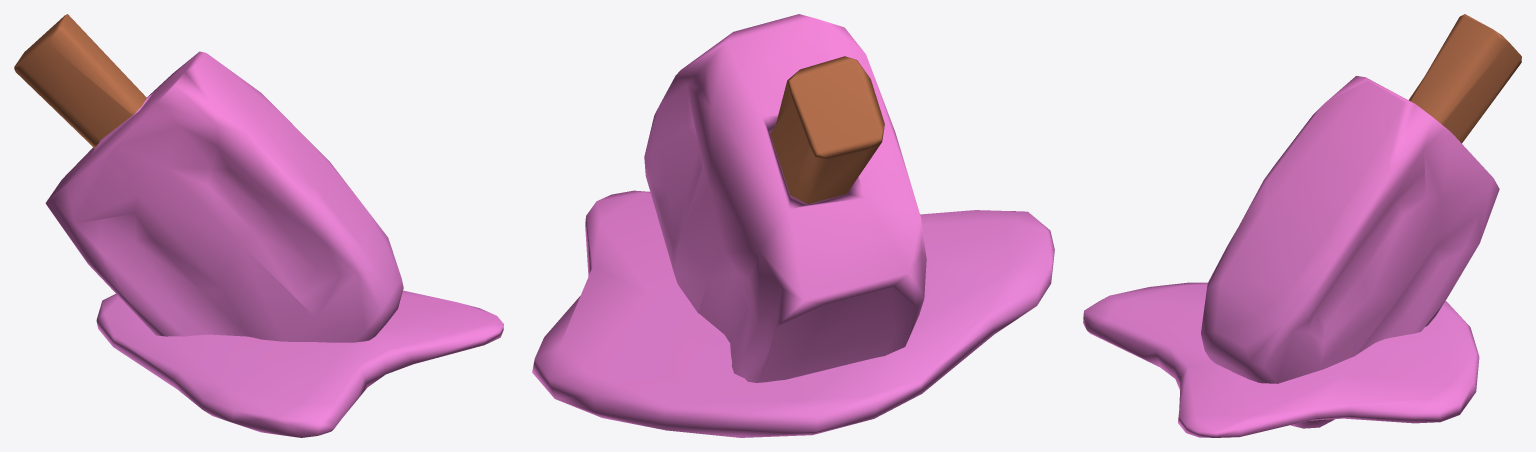
The model's file is gelato_sciolto_rosa_LOD1.fbx.
The picture shows the model from 3 angles, left to right: view 1: azimuth 30°, elevation 25°; view 2: azimuth 150°, elevation 25°; view 3: azimuth 270°, elevation 25°; orthographic projection. The views are drawn at different scales.
Parts seen in each view (by area): view 1: Cube_073; view 2: Cube_073; view 3: Cube_073.
Part boxes in pixels (x1,y1,x2,y2): Cube_073: (14, 14, 503, 437); Cube_073: (532, 14, 1054, 437); Cube_073: (1083, 14, 1521, 437).
Size of the model in its own units: 38.53 by 36.94 by 43.19.
1 material, 1 textured.
